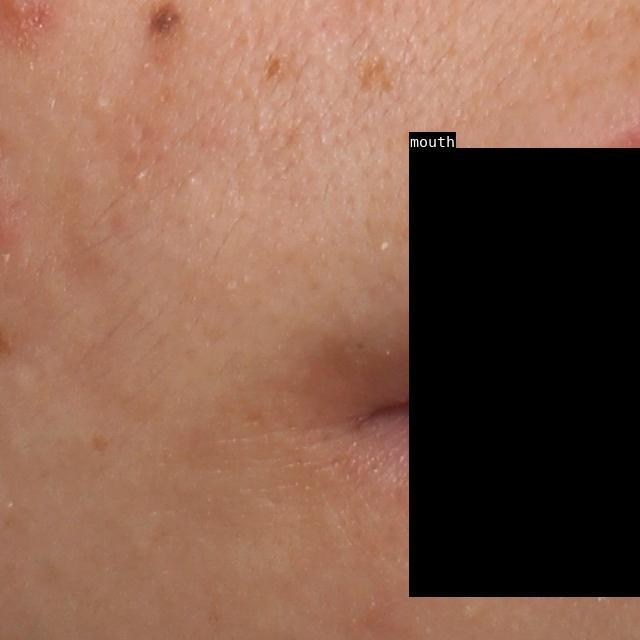comedo: (90, 95, 113, 116)
melasma: (355, 49, 403, 103)
